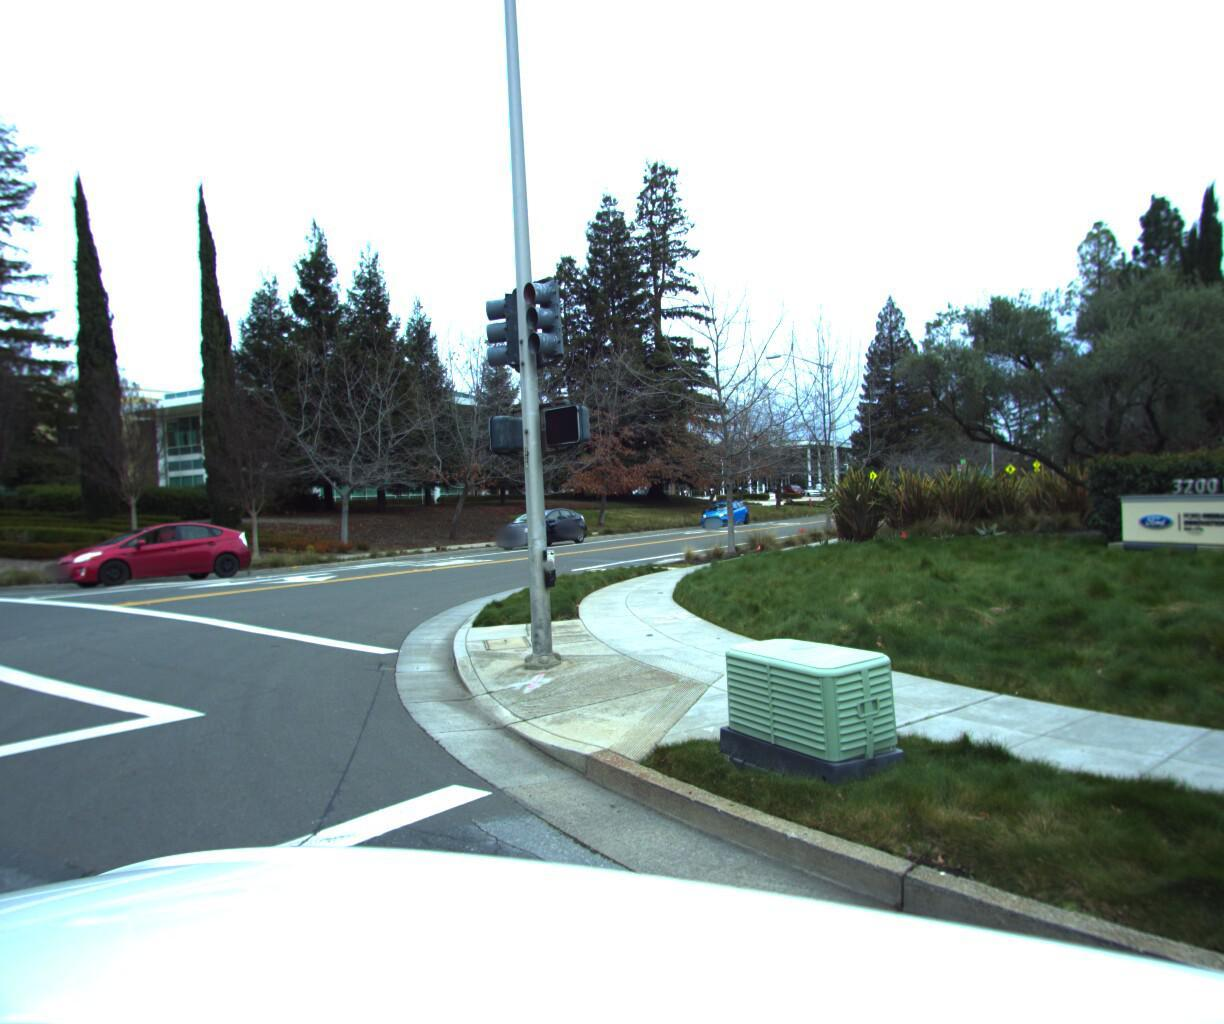car: (41, 516, 262, 590), (484, 498, 591, 545), (696, 493, 751, 524)
